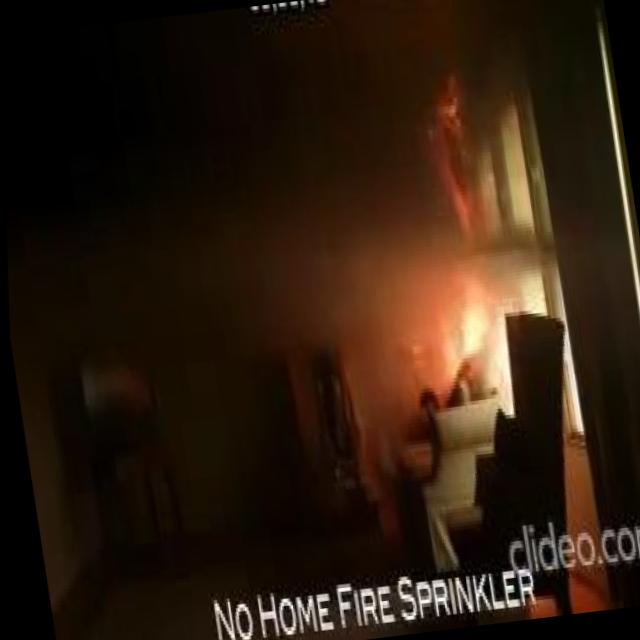fire: (429, 283, 499, 397), (421, 78, 470, 162), (439, 169, 479, 254)
